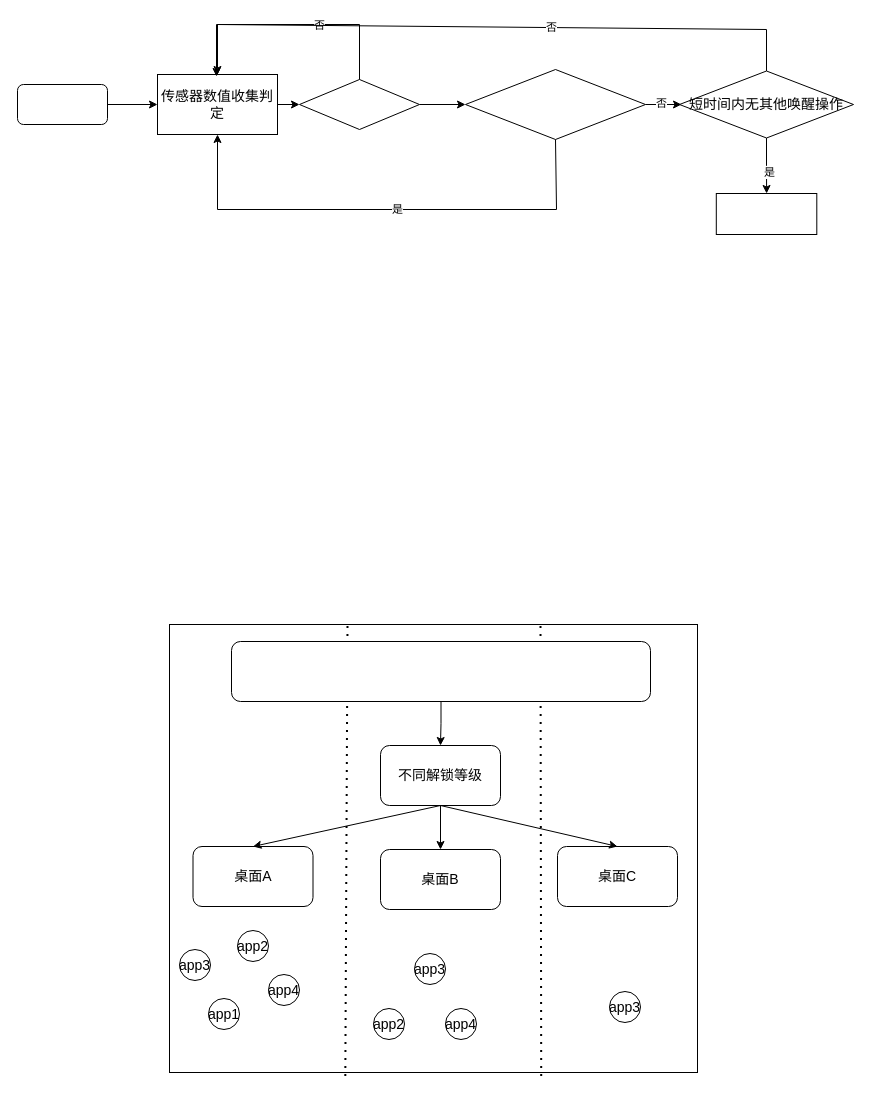
Some shapes in this 871 by 1096 pixel diagram are drawn without their labels. Each missing label, with the centre of its shape:
"Android手机" goes at point (440, 671).
"是否处于电话、视频等场景" goes at point (555, 104).
"是否锁屏场景" goes at point (359, 104).
"正常使用状态" goes at point (62, 104).
"自动锁屏" goes at point (766, 213).
